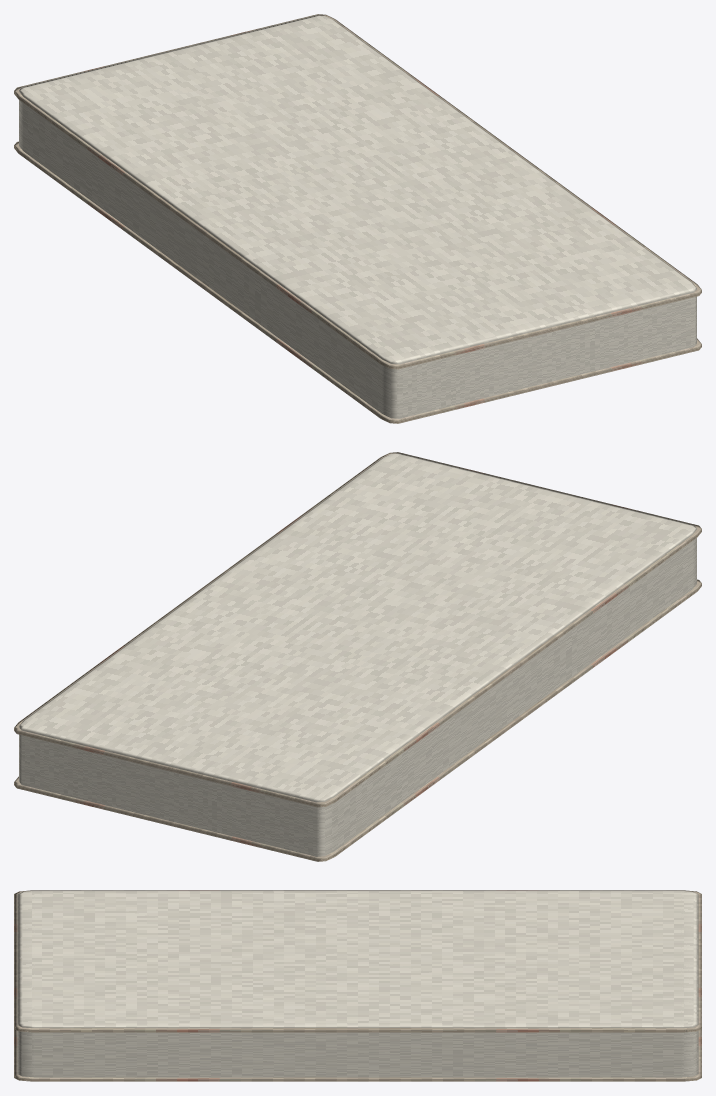
The model's file is sleep-mattress.glb.
3 renders of one model, top to bottom at view 1: azimuth 30°, elevation 25°; view 2: azimuth 150°, elevation 25°; view 3: azimuth 270°, elevation 25°, orthographic. The views are drawn at different scales.
Visible parts, largest first — view 1: body, welt (×2); view 2: body, welt (×2); view 3: body, welt (×2).
Boxes of the visible parts, x1,y1,x2,y2 form: body: [19, 15, 696, 418]; welt (×2): [14, 14, 701, 423]; body: [19, 453, 696, 856]; welt (×2): [14, 452, 701, 861]; body: [17, 891, 698, 1077]; welt (×2): [14, 890, 701, 1081].
Bounding box in the file's own units: 0.95 × 0.1786 × 1.98.
2 materials, 2 textured.
